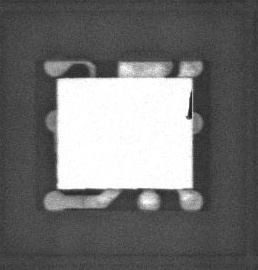DIE_BROKEN: (184, 90, 194, 120)
